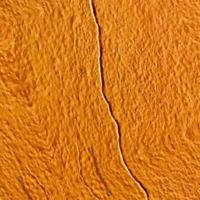crack: (75, 0, 162, 199)
